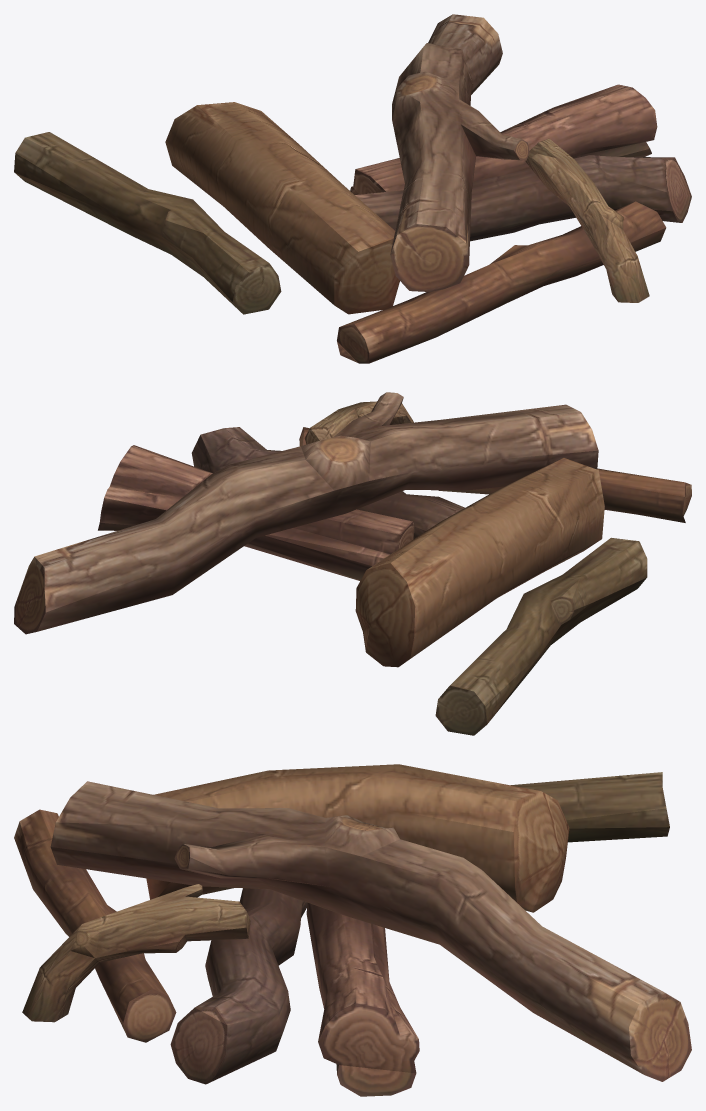
File: shuzhuang02.FBX
The picture shows the model from 3 angles, top to bottom: view 1: azimuth 30°, elevation 25°; view 2: azimuth 150°, elevation 25°; view 3: azimuth 270°, elevation 25°; orthographic projection. The views are drawn at different scales.
Parts seen in each view (by area): view 1: UE051; view 2: UE051; view 3: UE051.
Part boxes in pixels (left/top/right/bottom): UE051: left=14, top=14, right=691, bottom=363; UE051: left=14, top=392, right=691, bottom=735; UE051: left=14, top=764, right=691, bottom=1096.
Bounding box in the file's own units: 361 × 91.67 × 368.
